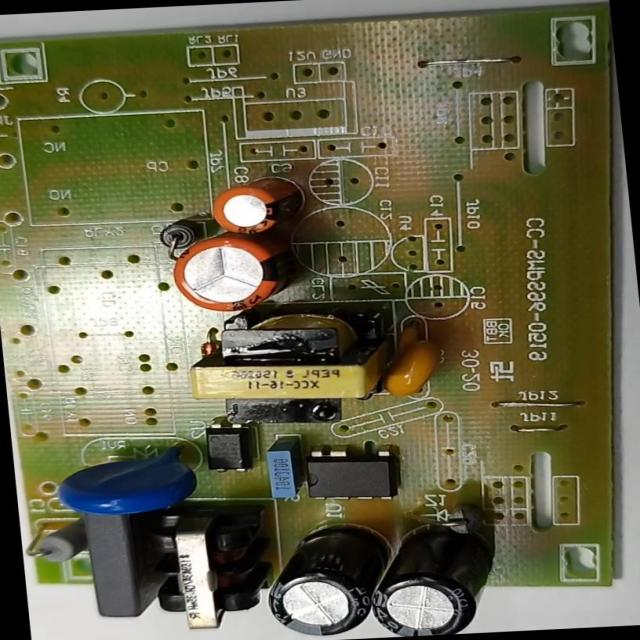Cap1: (167, 233, 301, 316)
Cap2: (208, 176, 304, 236)
Cap3: (259, 528, 376, 639)
Cap4: (362, 527, 498, 638)
MOSFET: (300, 445, 400, 505)
Mov: (51, 446, 200, 518)
Resistor: (21, 518, 89, 568)
Transformer: (180, 302, 382, 429), (143, 514, 266, 632)
